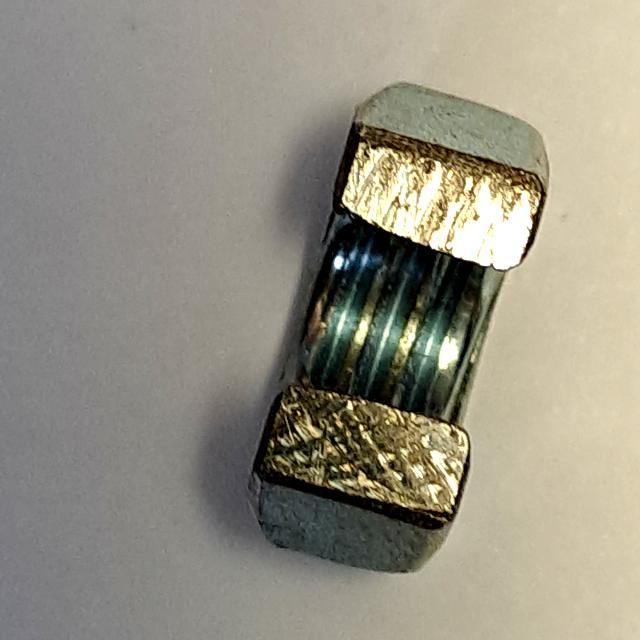Side-Fracture: (228, 68, 558, 590)
